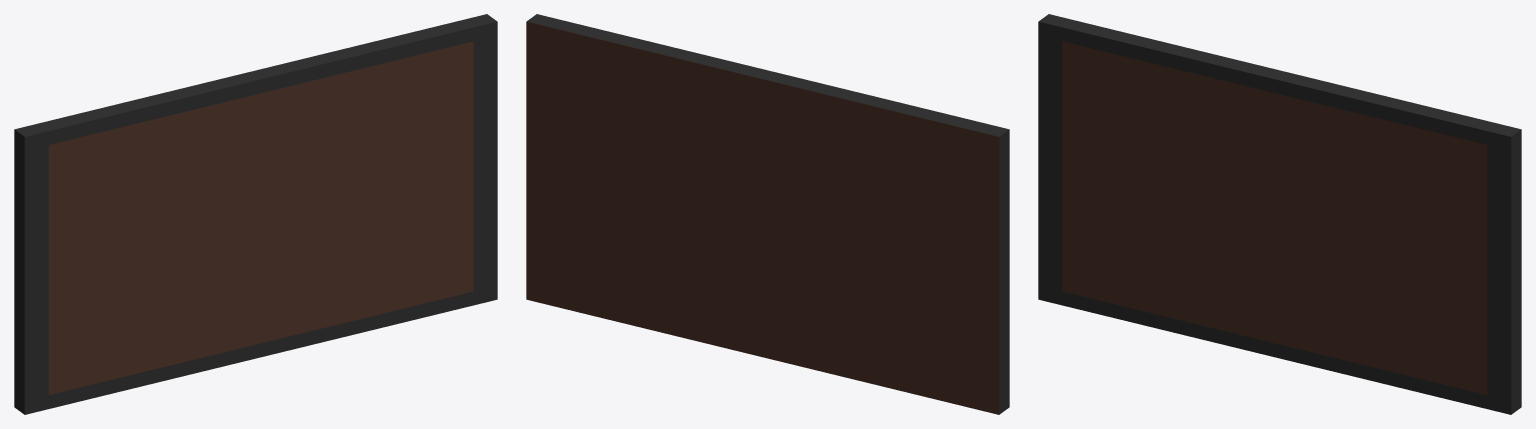
The model's file is BigPainting.fbx.
3 views of the same model, side by side, from view 1: azimuth 30°, elevation 25°; view 2: azimuth 150°, elevation 25°; view 3: azimuth 330°, elevation 25° (orthographic).
Visible parts, largest first — view 1: Cube; view 2: Cube; view 3: Cube.
Boxes of the visible parts, x1,y1,x2,y2 form: Cube: (14, 14, 497, 414); Cube: (526, 14, 1009, 414); Cube: (1038, 14, 1521, 414).
Bounding box in the file's own units: 204 × 115 × 7.77.
